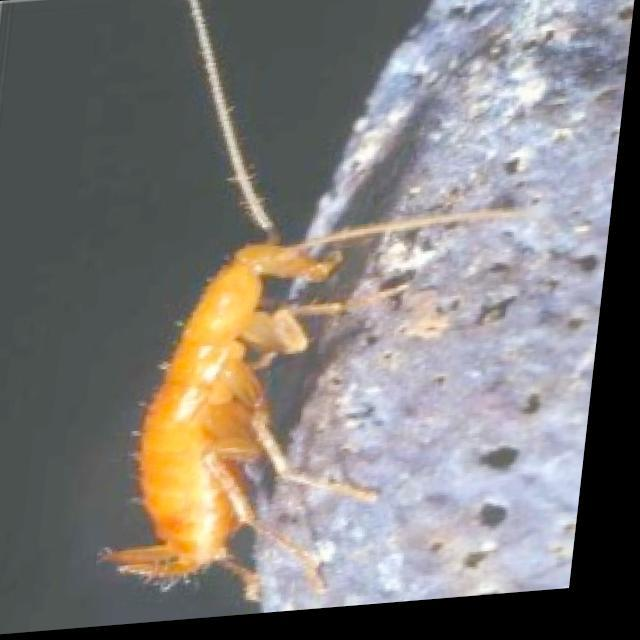cockroach: (78, 138, 421, 622)
